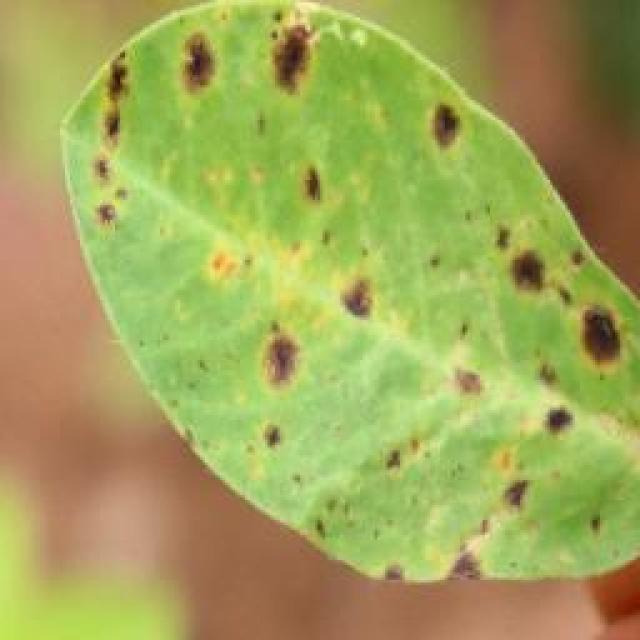Yellowish: (63, 9, 640, 594)
